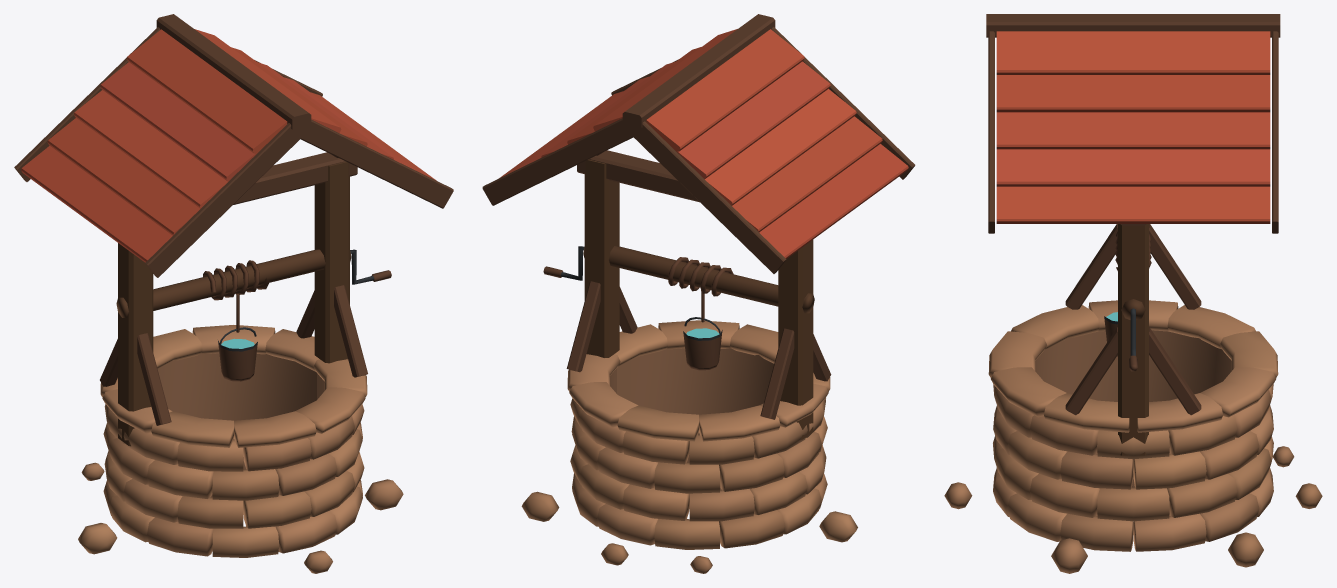
File: prop_water_well_a.glb
3 renders of one model, left to right at view 1: azimuth 30°, elevation 25°; view 2: azimuth 150°, elevation 25°; view 3: azimuth 270°, elevation 25°, orthographic. The views are drawn at different scales.
Parts seen in each view (by area): view 1: prop_water_well_a_mesh; view 2: prop_water_well_a_mesh; view 3: prop_water_well_a_mesh.
Part boxes in pixels (box(x1,y1,x2,y2)): prop_water_well_a_mesh: box(14, 14, 453, 573); prop_water_well_a_mesh: box(482, 14, 915, 573); prop_water_well_a_mesh: box(944, 14, 1322, 573).
Size of the model in its own units: 2.29 by 3.13 by 2.2.
